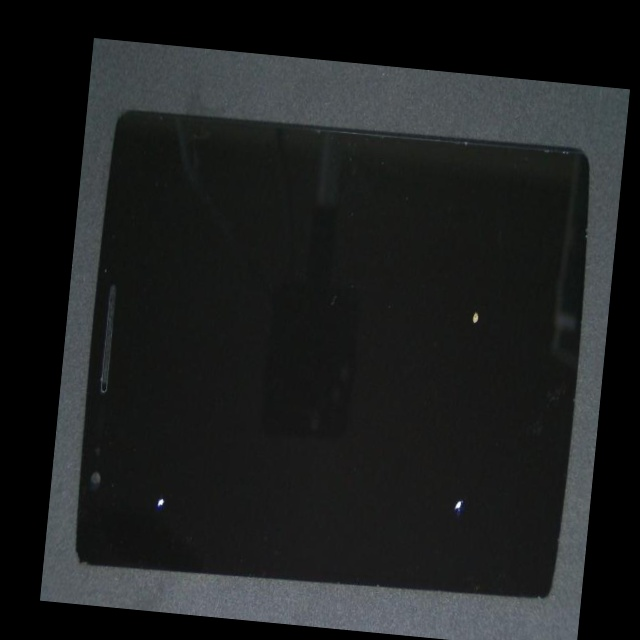stain: (202, 271, 609, 640), (233, 204, 616, 485), (53, 283, 225, 615)
